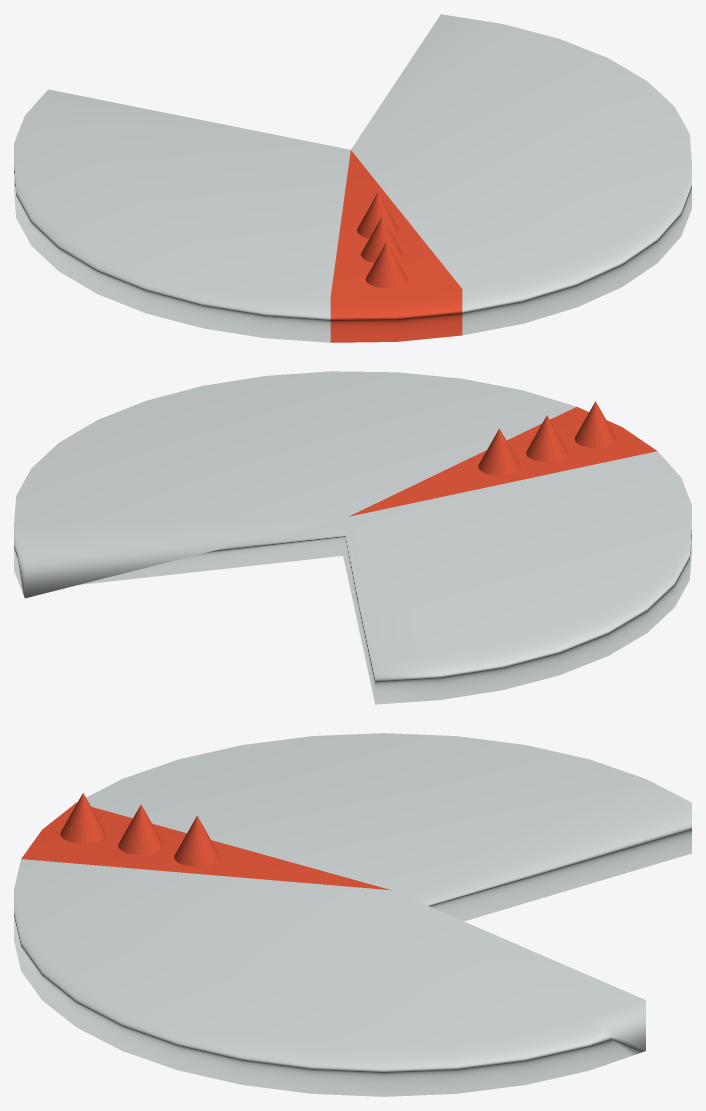
Rendered from CylinderSpike.glb.
3 views of the same model, one above another, from view 1: azimuth 30°, elevation 25°; view 2: azimuth 150°, elevation 25°; view 3: azimuth 270°, elevation 25° (orthographic). The views are drawn at different scales.
Parts seen in each view (by area): view 1: Cylinder.002, Cone.002, Cone.003, Cone.001; view 2: Cylinder.002, Cone.003, Cone.001, Cone.002; view 3: Cylinder.002, Cone.003, Cone.001, Cone.002.
Part boxes in pixels (box(x1,y1,x2,y2)): Cylinder.002: box(14, 14, 691, 342); Cone.002: box(365, 241, 407, 288); Cone.003: box(357, 192, 399, 238); Cone.001: box(361, 217, 402, 262); Cylinder.002: box(14, 371, 691, 704); Cone.003: box(478, 428, 520, 475); Cone.001: box(526, 415, 567, 461); Cone.002: box(574, 401, 616, 447); Cylinder.002: box(14, 733, 691, 1096); Cone.003: box(174, 816, 220, 866); Cone.001: box(118, 804, 163, 855); Cone.002: box(60, 793, 105, 843).
Size of the model in its own units: 2 by 0.2765 by 1.83.
